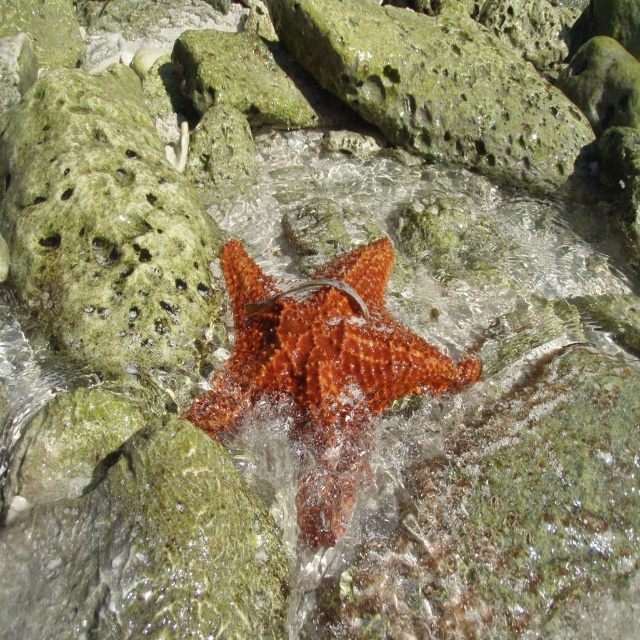Starfish: (178, 236, 482, 548)
